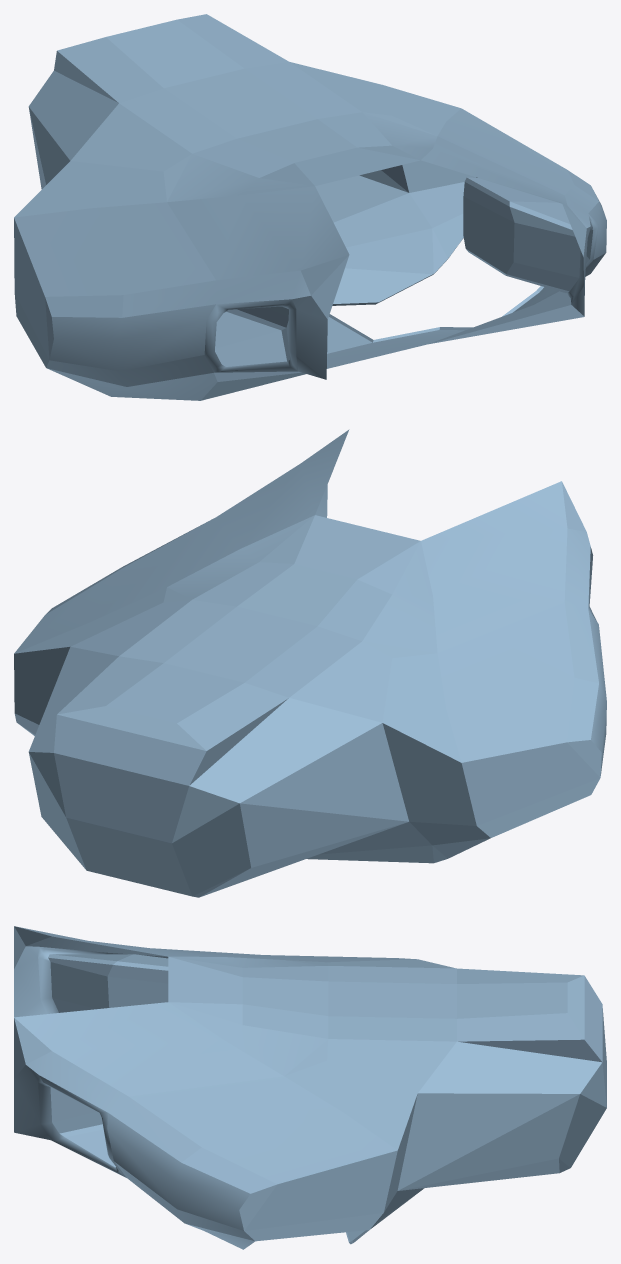
The model's file is primary body.FBX.
3 views of the same model, one above another, from view 1: azimuth 30°, elevation 25°; view 2: azimuth 150°, elevation 25°; view 3: azimuth 270°, elevation 25° (orthographic). The views are drawn at different scales.
Visible parts, largest first — view 1: Box09; view 2: Box09; view 3: Box09.
Part boxes in pixels (x1,y1,x2,y2): Box09: (14,14,606,400); Box09: (14,429,606,897); Box09: (14,926,606,1249).
Size of the model in its own units: 0.1471 by 0.1557 by 0.0614.
